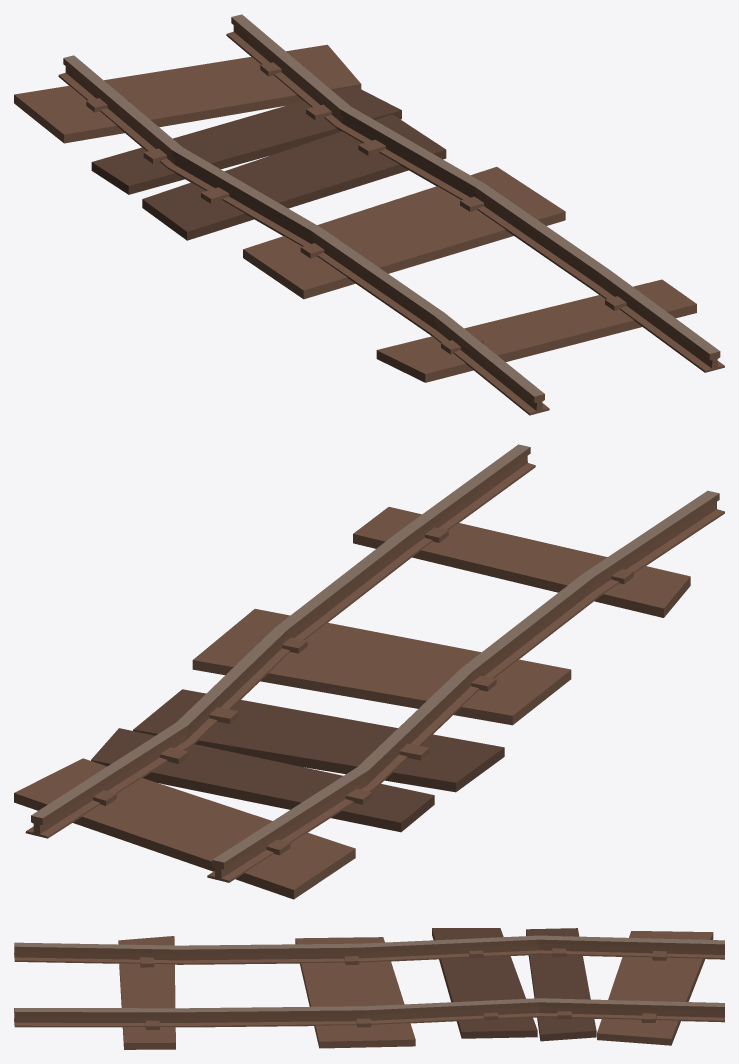
Rendered from Mines Car Track 3M Jiggle v2.glb.
3 views of the same model, one above another, from view 1: azimuth 30°, elevation 25°; view 2: azimuth 150°, elevation 25°; view 3: azimuth 270°, elevation 25° (orthographic). The views are drawn at different scales.
Visible parts, largest first — view 1: Mines Car Track 3M jiggle v2; view 2: Mines Car Track 3M jiggle v2; view 3: Mines Car Track 3M jiggle v2.
Boxes of the visible parts, <box> form: Mines Car Track 3M jiggle v2: <box>14,14,724,415</box>; Mines Car Track 3M jiggle v2: <box>14,444,724,899</box>; Mines Car Track 3M jiggle v2: <box>14,928,724,1049</box>.
Size of what is drawn, in the model's own units: 1.15 by 0.092 by 3.
Materials: 1 (1 with a texture image).
